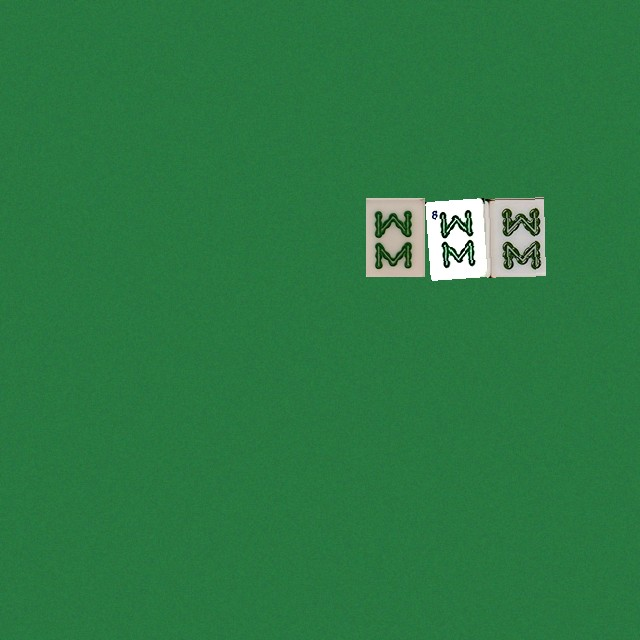tile: (365, 197, 424, 276), (425, 197, 484, 276), (485, 197, 544, 276)
